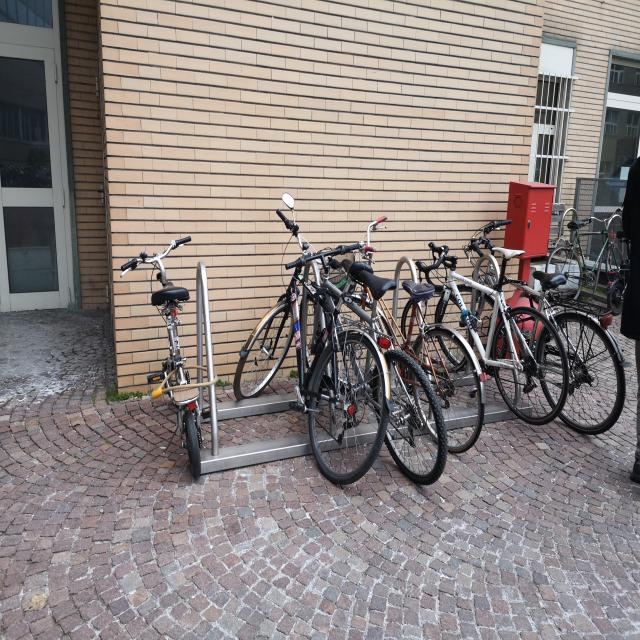Bicycle: (450, 182, 622, 438), (313, 208, 443, 528), (260, 213, 378, 508), (125, 236, 228, 480), (418, 254, 562, 428), (382, 260, 492, 479), (557, 182, 618, 307)
